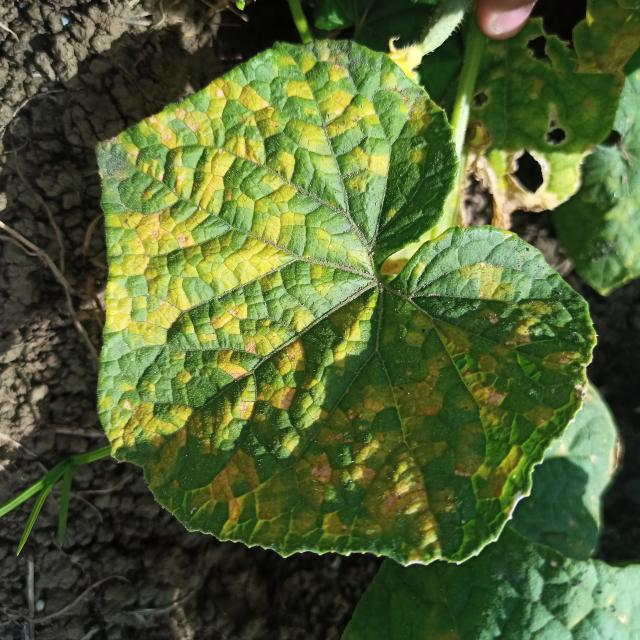disease_cucumber: (106, 56, 559, 555)
